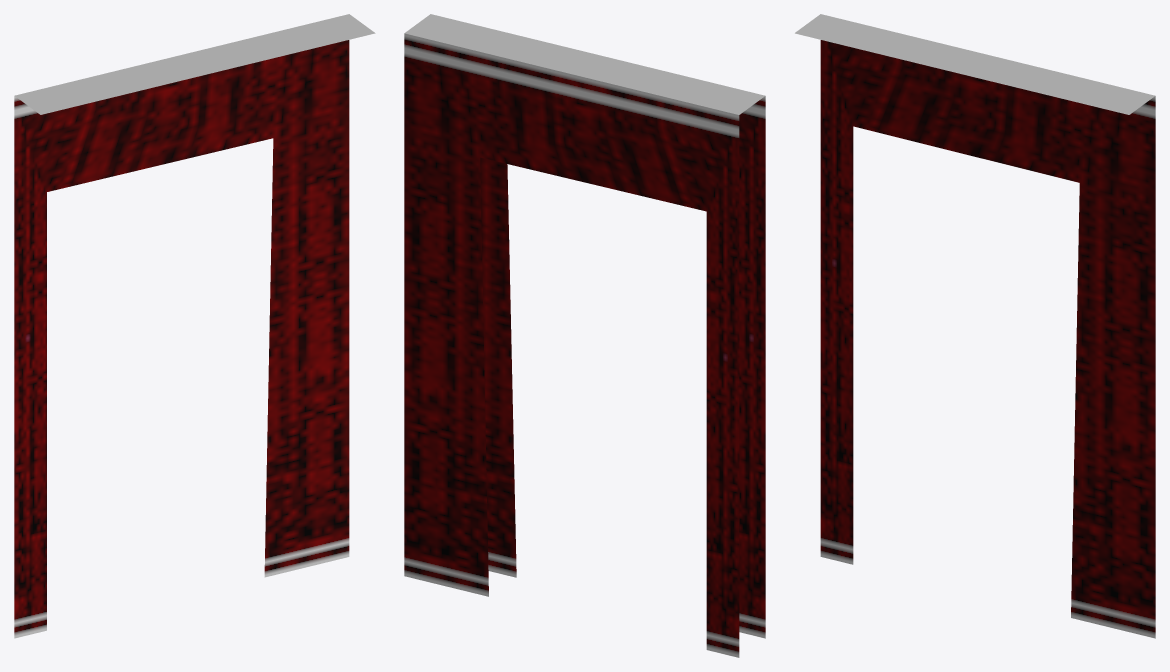
Rendered from W_I2_o [Rot]_2075.glb.
The picture shows the model from 3 angles, left to right: view 1: azimuth 30°, elevation 25°; view 2: azimuth 150°, elevation 25°; view 3: azimuth 330°, elevation 25°; orthographic projection.
Visible parts, largest first — view 1: pPlaneShape3, pPlaneShape1; view 2: pPlaneShape3, pPlaneShape2, pPlaneShape1; view 3: pPlaneShape3, pPlaneShape1.
Boxes of the visible parts, <box> form: pPlaneShape3: <box>14,40,349,638</box>; pPlaneShape1: <box>14,14,375,114</box>; pPlaneShape3: <box>404,33,739,657</box>; pPlaneShape2: <box>480,96,765,638</box>; pPlaneShape1: <box>405,14,765,114</box>; pPlaneShape3: <box>820,40,1155,638</box>; pPlaneShape1: <box>795,14,1155,114</box>.
Size of the model in its own units: 0.2252 by 0.3486 by 0.0308.
3 materials, 2 textured.
